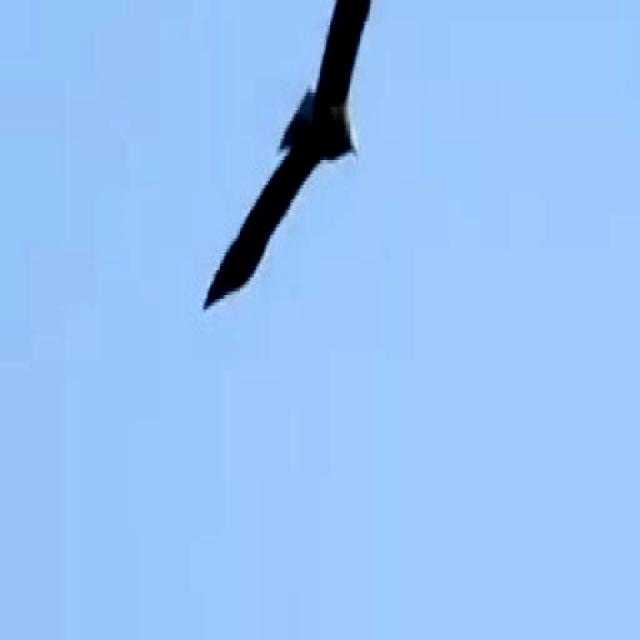airplane: (178, 0, 411, 331)
